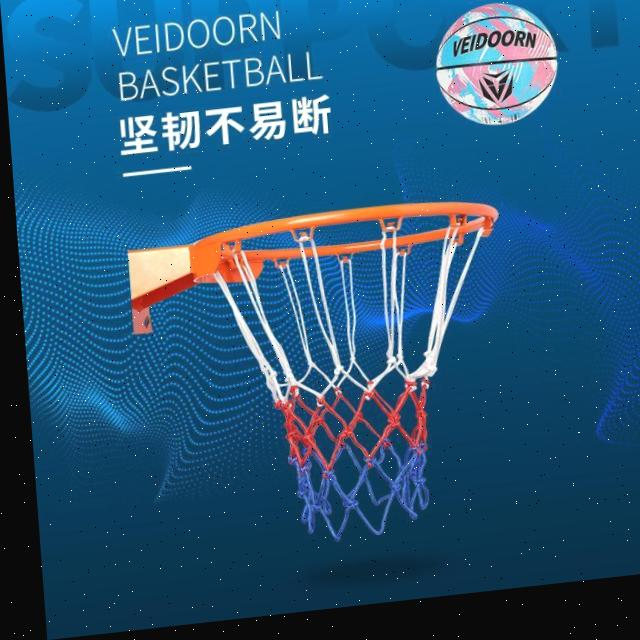basketball: (435, 0, 561, 132)
hoop: (190, 191, 520, 554)
